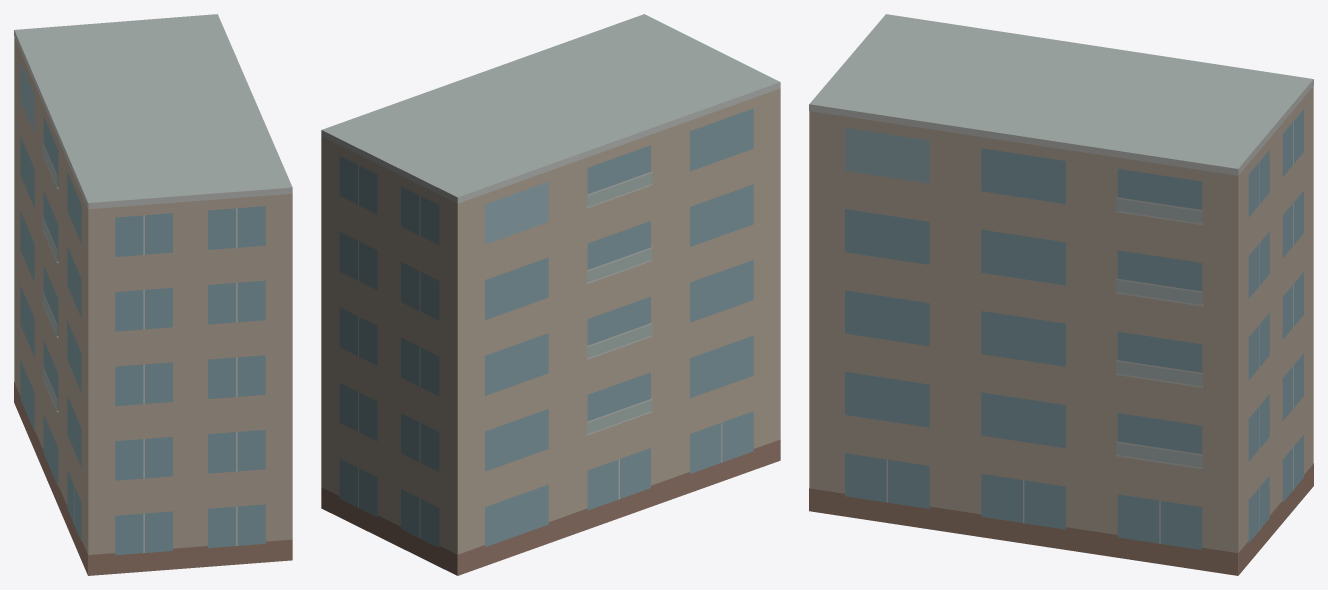
Rendered from survey-upis-32890032.glb.
The picture shows the model from 3 angles, left to right: view 1: azimuth 30°, elevation 25°; view 2: azimuth 150°, elevation 25°; view 3: azimuth 270°, elevation 25°; orthographic projection. The views are drawn at different scales.
Visible parts, largest first — view 1: survey-upis-32890032.tmp; view 2: survey-upis-32890032.tmp; view 3: survey-upis-32890032.tmp.
Boxes of the visible parts, left/top/right/bottom form: survey-upis-32890032.tmp: left=14, top=14, right=292, bottom=575; survey-upis-32890032.tmp: left=321, top=14, right=780, bottom=575; survey-upis-32890032.tmp: left=809, top=14, right=1313, bottom=575.
Size of the model in its own units: 12.02 by 14.7 by 16.53.
